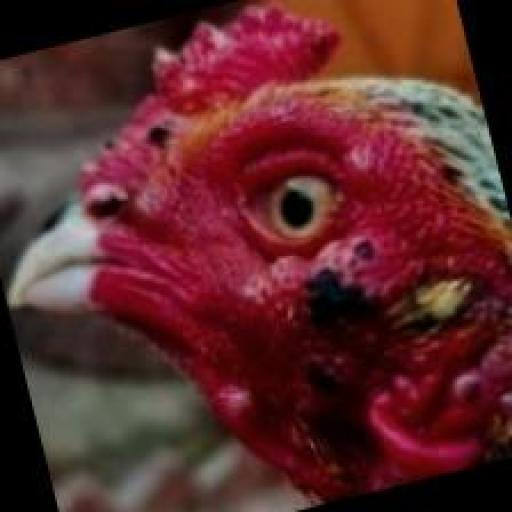disease: (374, 288, 507, 463), (69, 0, 341, 66), (189, 328, 280, 443)
